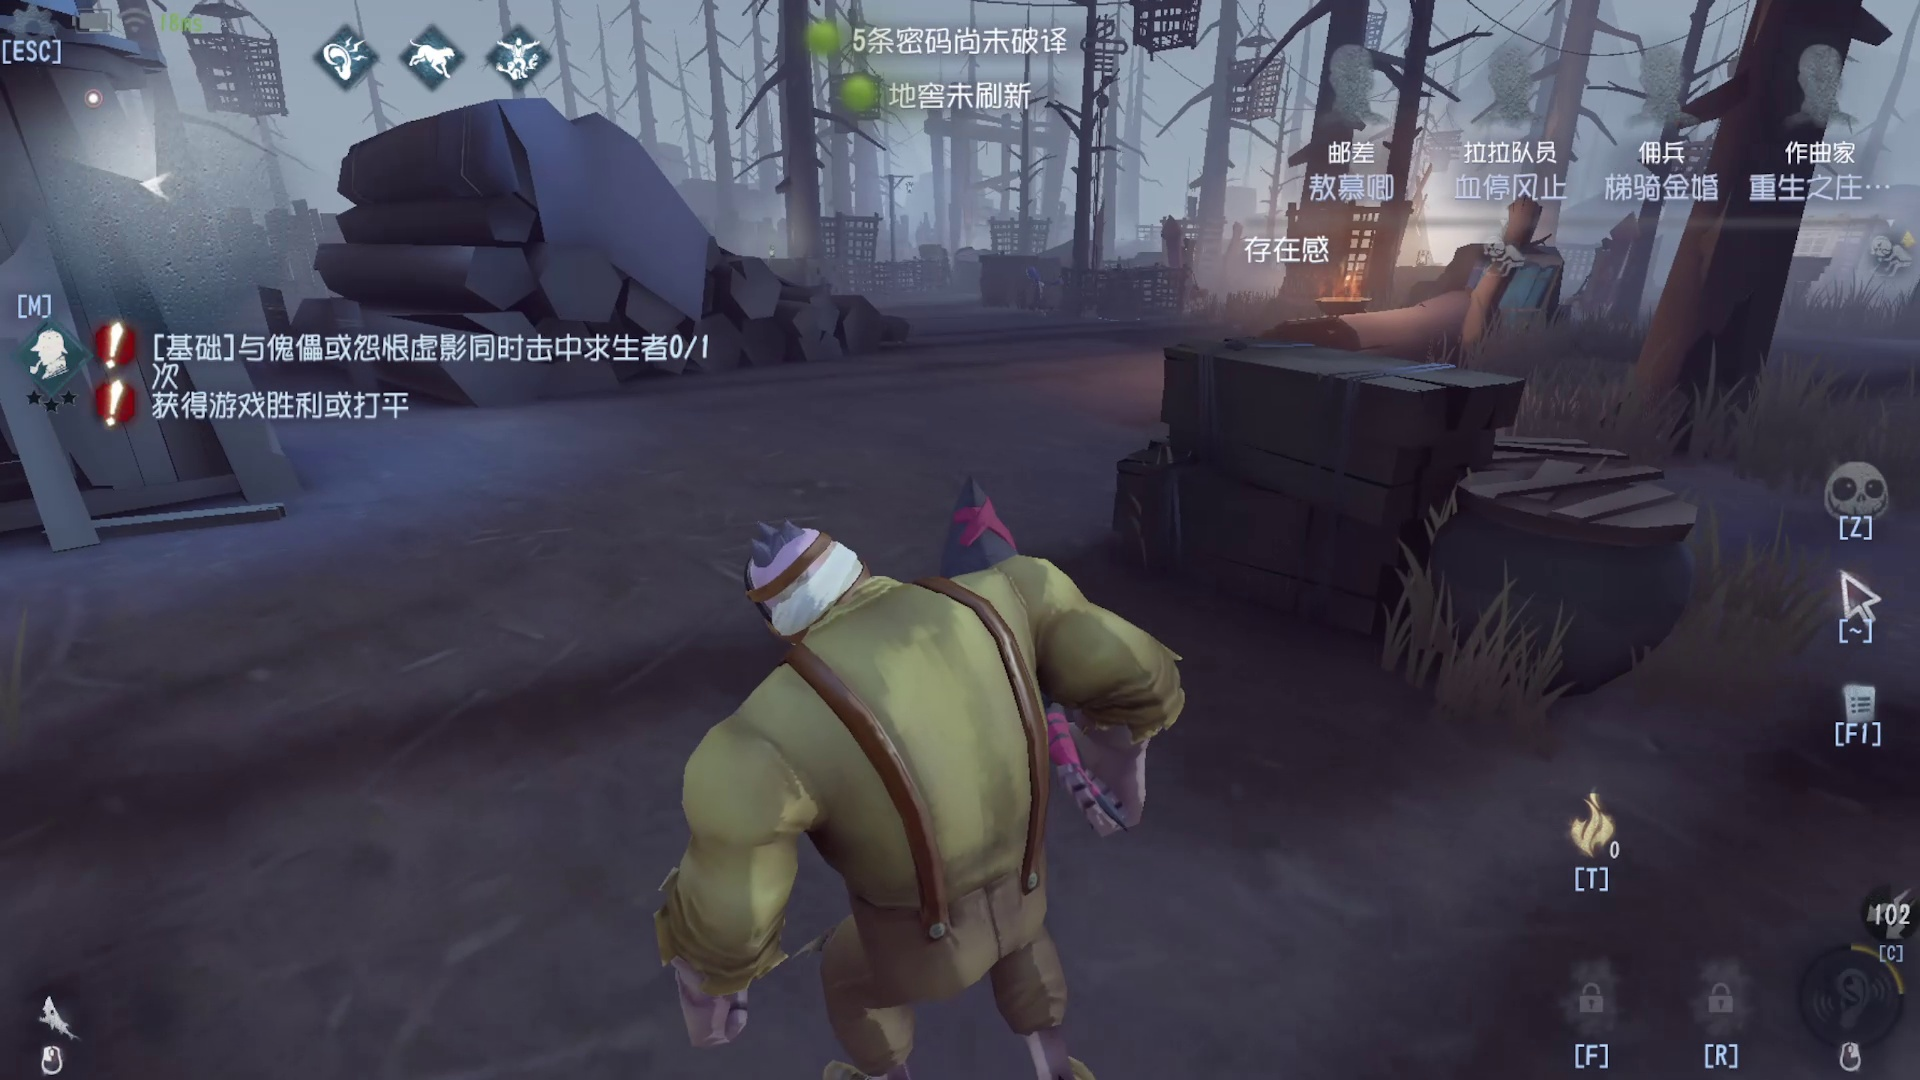木板: (1398, 211, 1572, 392)
